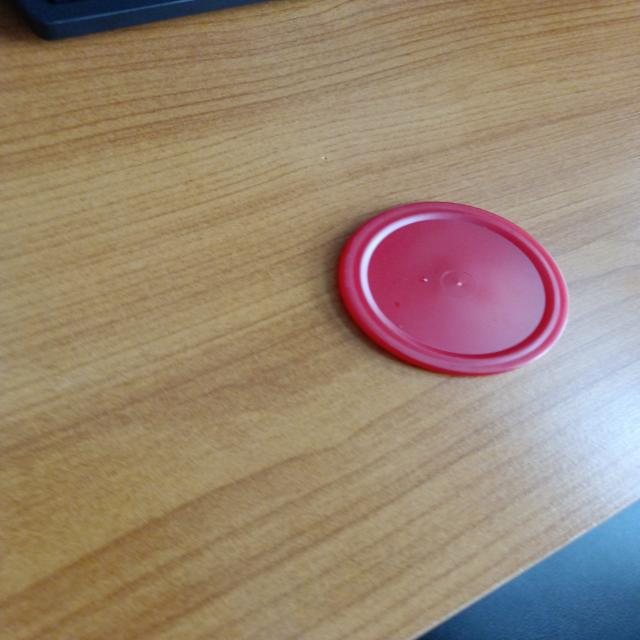chip: (336, 200, 570, 376)
